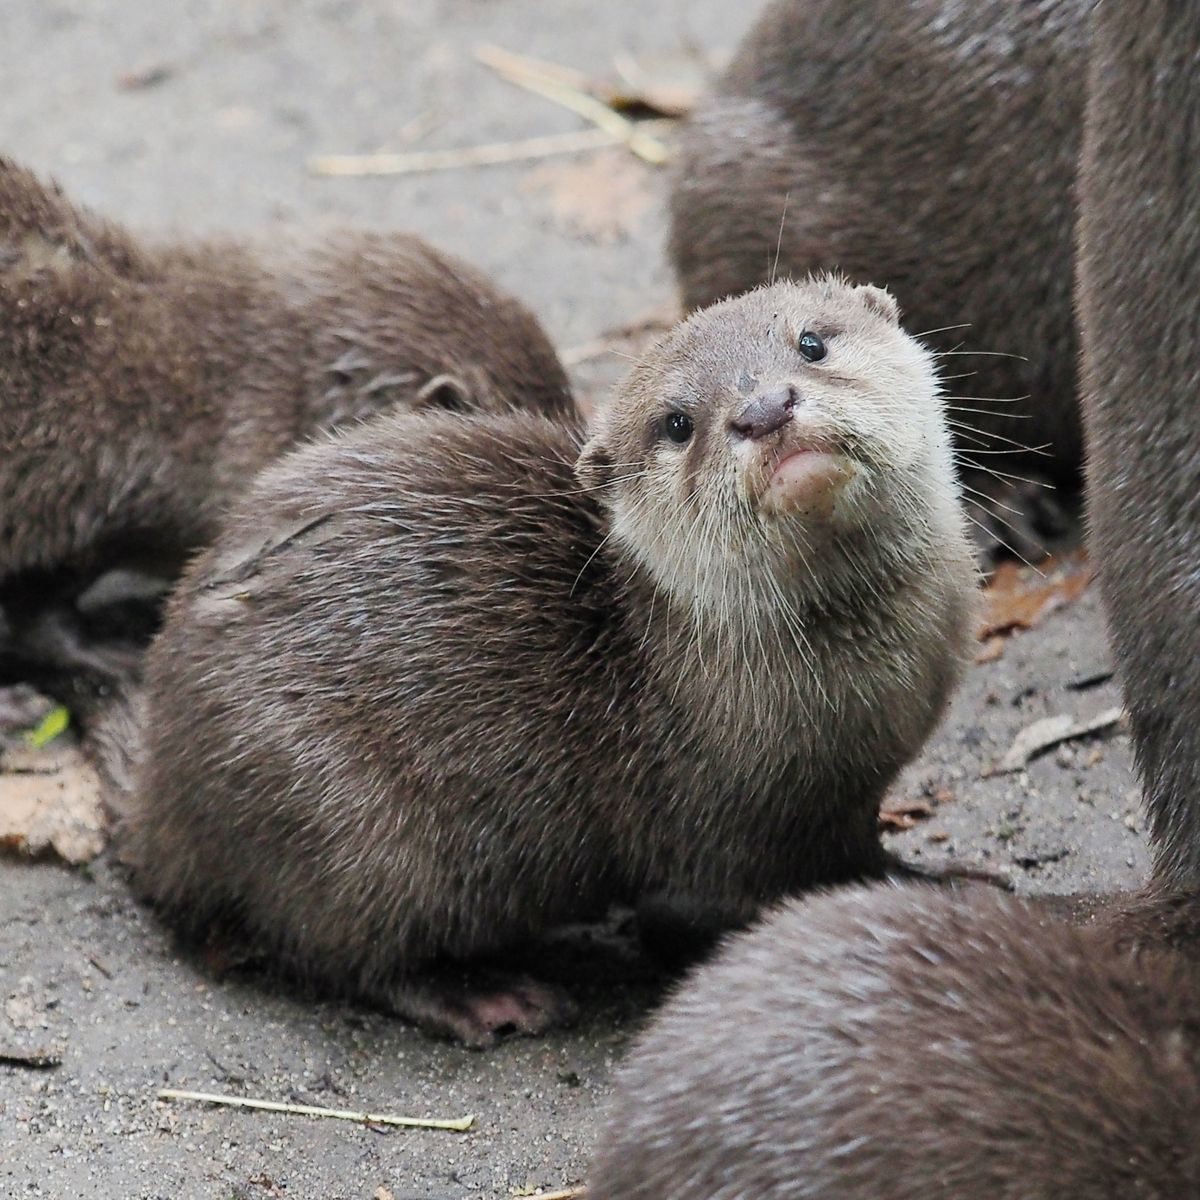otter: (121, 262, 1003, 1062)
